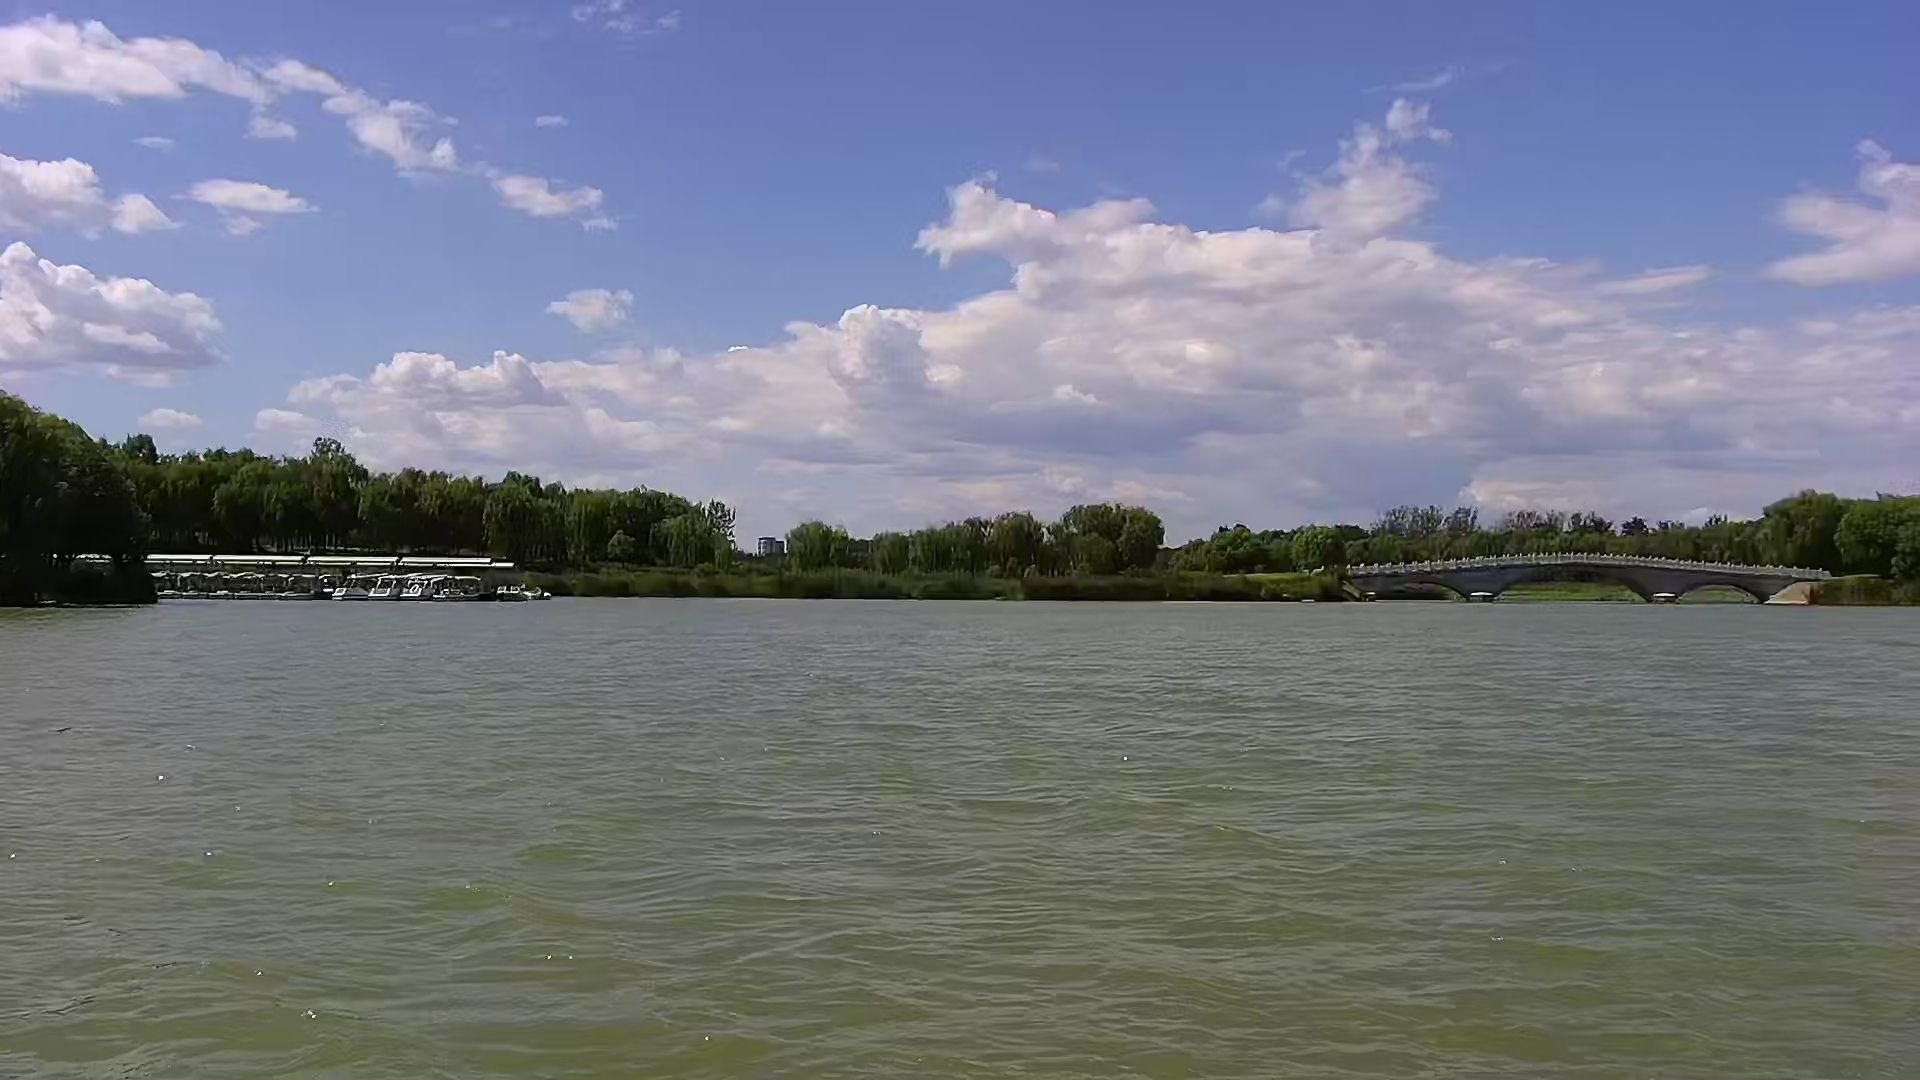bridge: (1340, 553, 1830, 601)
harbor: (148, 551, 545, 607)
